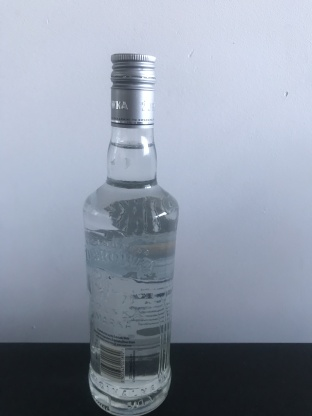nakretka: (109, 50, 157, 131)
